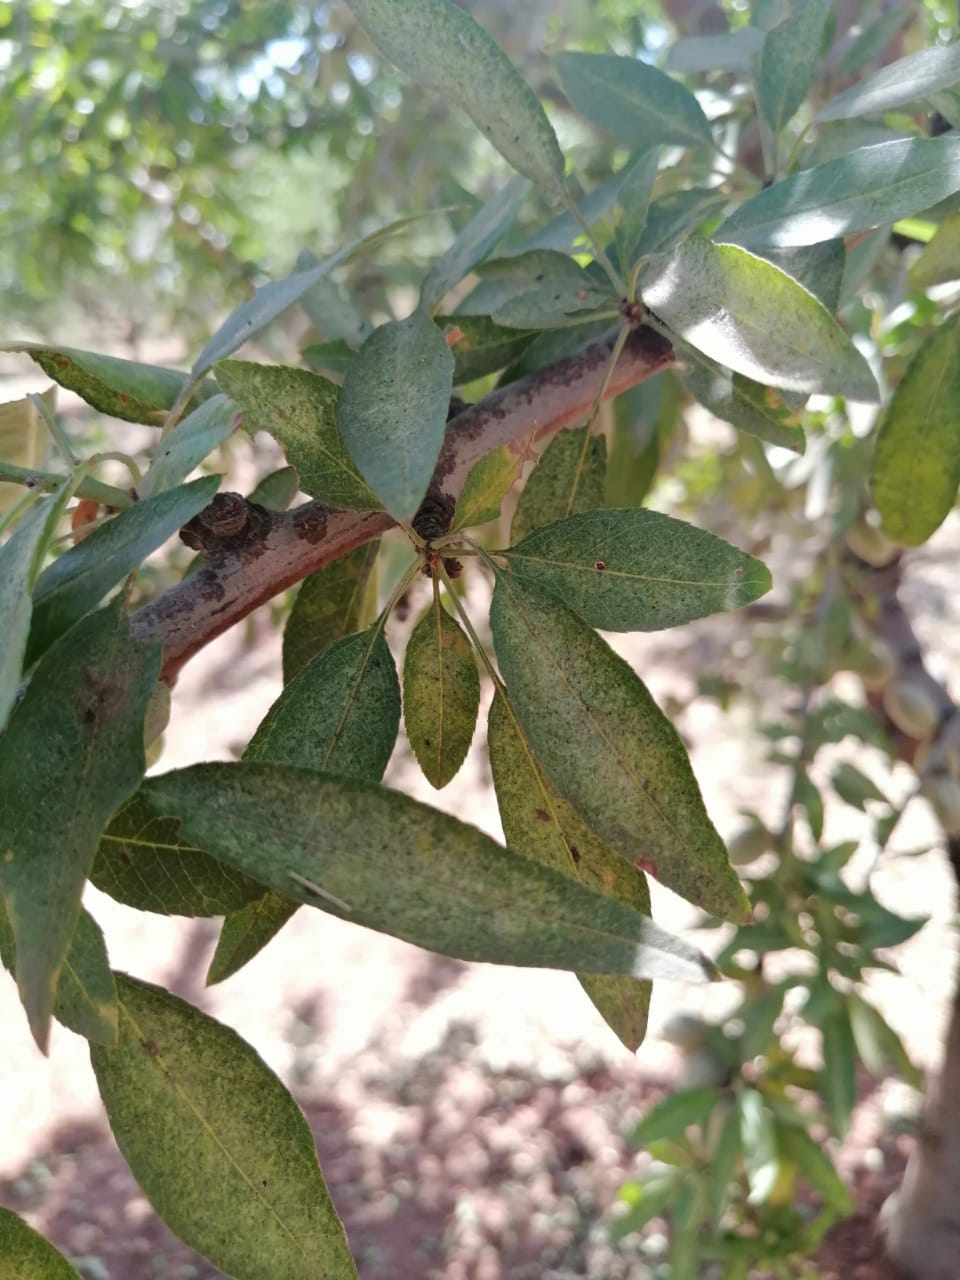acariens: (142, 760, 729, 984), (491, 568, 761, 929), (84, 972, 364, 1277), (201, 634, 398, 992), (641, 240, 882, 408), (507, 507, 774, 633), (338, 314, 456, 529), (401, 607, 484, 790)
